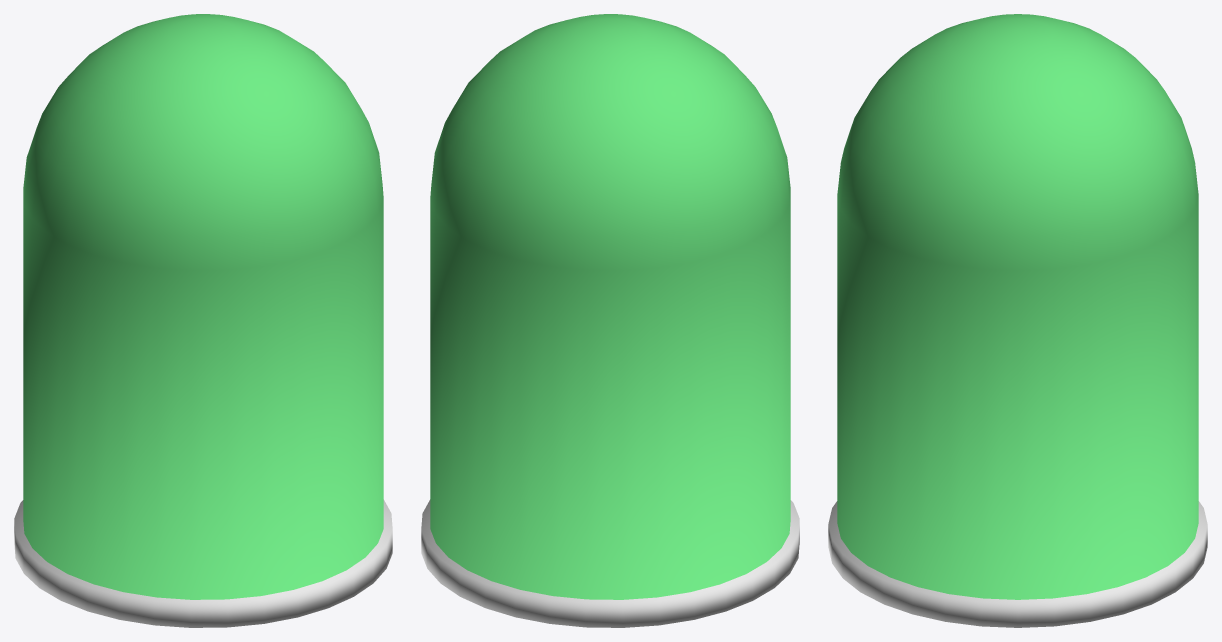
Rendered from birth_machine.glb.
3 views of the same model, side by side, from view 1: azimuth 30°, elevation 25°; view 2: azimuth 150°, elevation 25°; view 3: azimuth 270°, elevation 25° (orthographic).
Parts seen in each view (by area): view 1: Sphere; view 2: Sphere; view 3: Sphere.
Part boxes in pixels (box(x1,y1,x2,y2)): Sphere: box(14, 14, 392, 627); Sphere: box(421, 14, 799, 627); Sphere: box(828, 14, 1207, 627).
Size of the model in its own units: 1.02 by 1.53 by 1.02.
